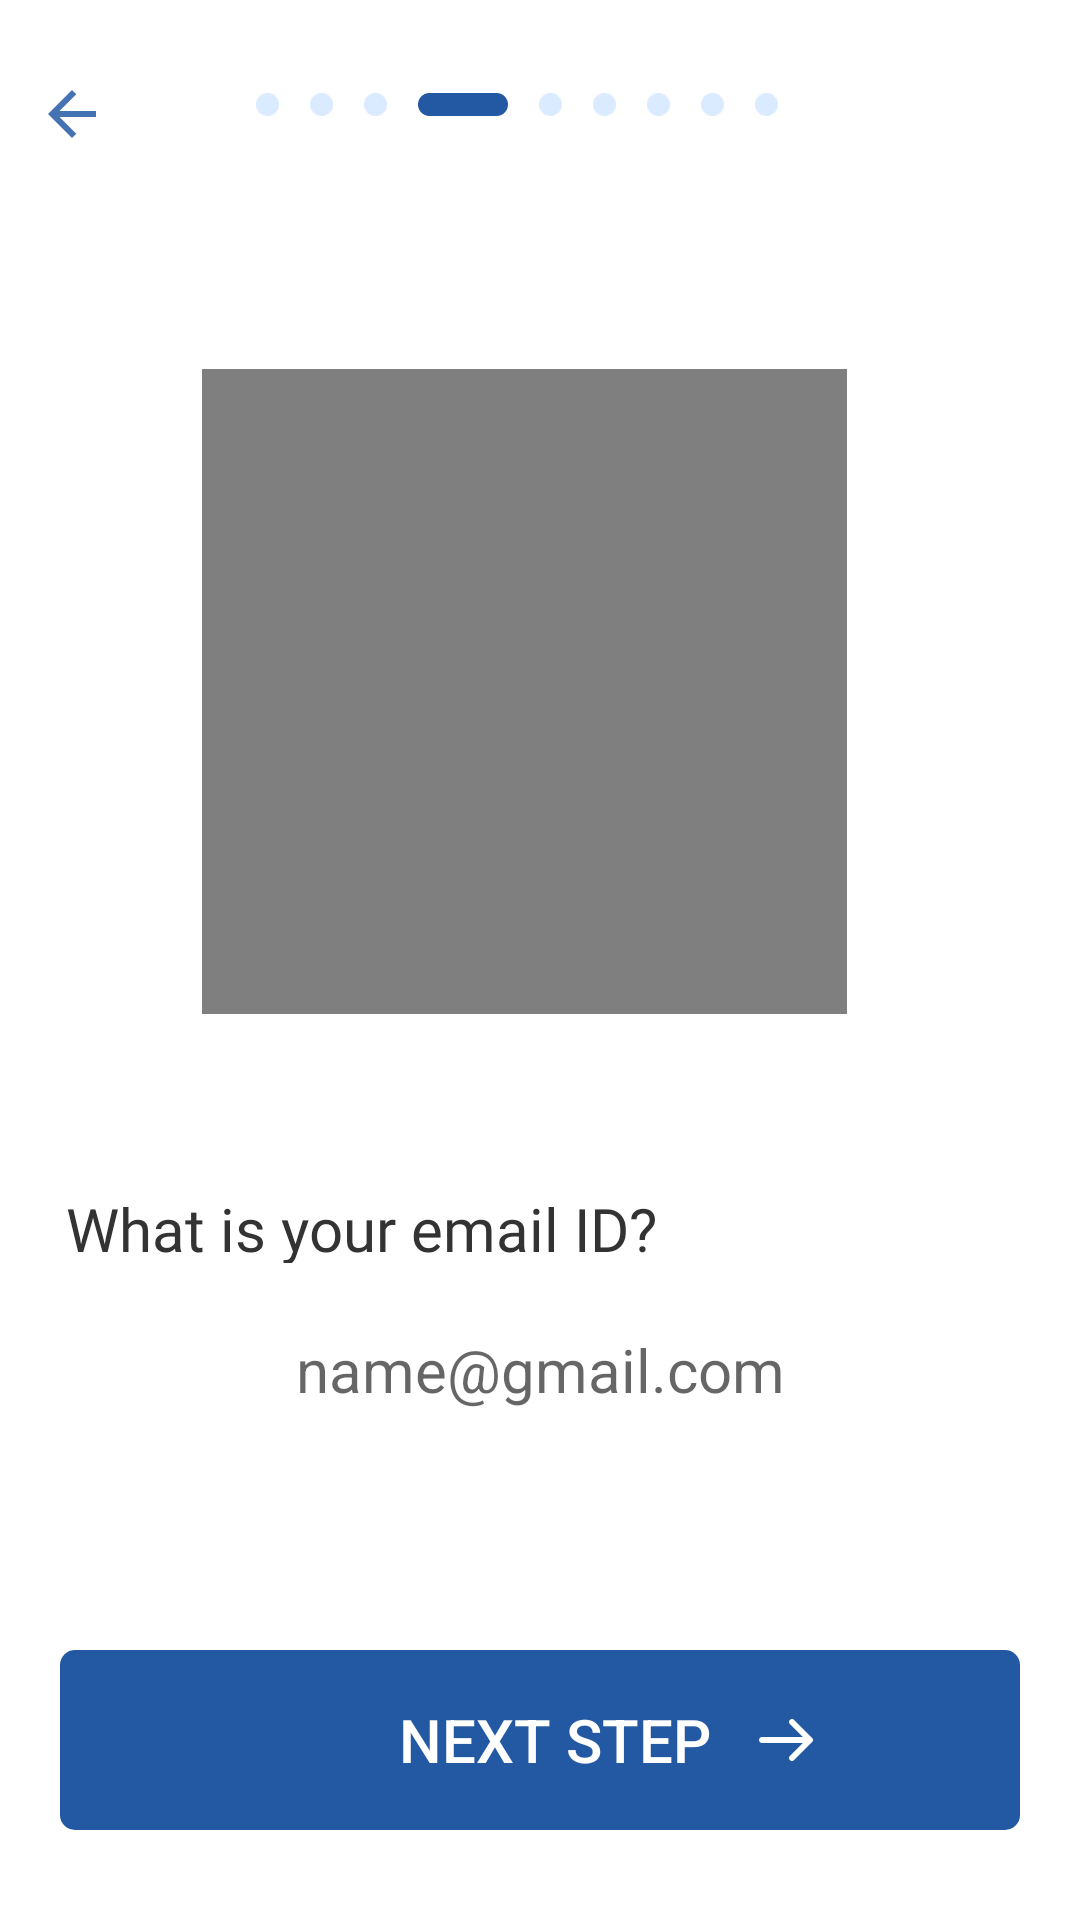

Screen size 1080*1920. Icon name, then its box in pixels as {"x1": x1, "y1": y1, "x2": x2, "y2": y2}:
feather arrow right: {"x1": 759, "y1": 1719, "x2": 813, "y2": 1761}
